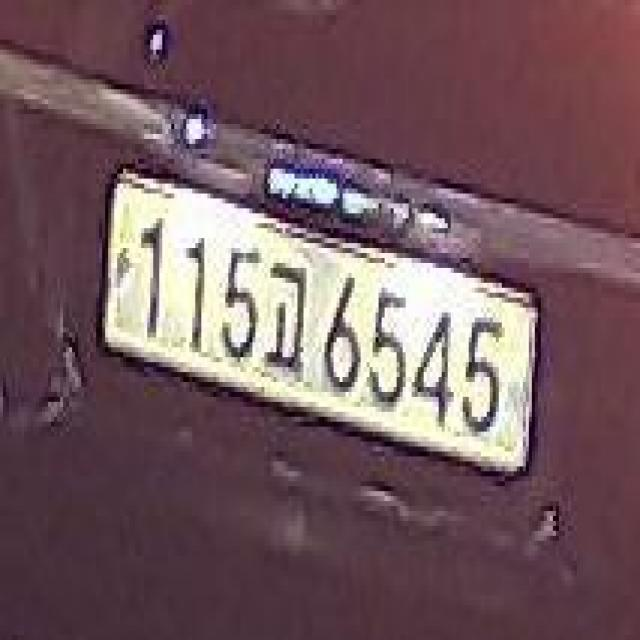illegal_plate: (102, 165, 541, 491)
